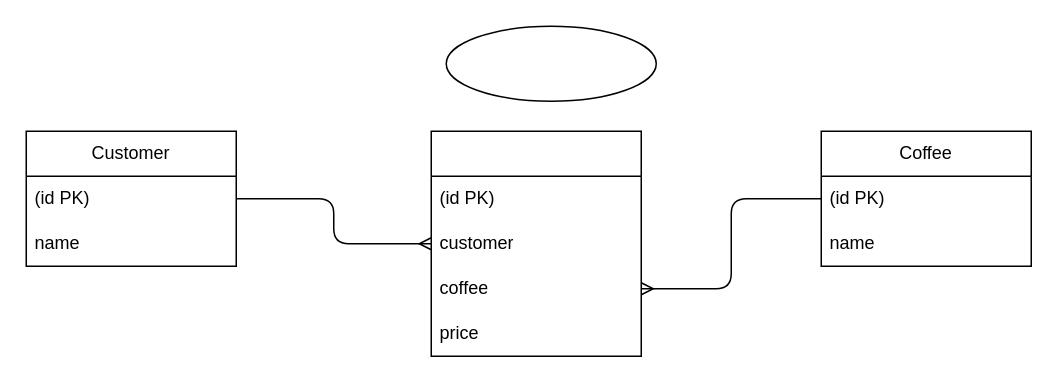
Some shapes in this 1058 by 383 pixel diagram are drawn without their labels. Here are the shapes that lost their labels. From the top down, the box of each, then its label:
(445, 25, 656, 101): all == SSOT
(430, 130, 641, 356): Order
